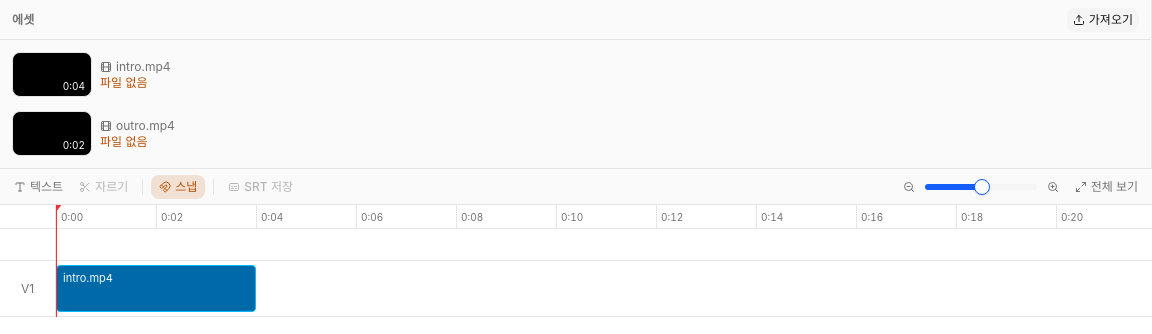
Test: Timeline › 클립 이동 › 거의 움직이지 않고 떼면 클립을 선택하고 탐색하지 않는다
Earlier steps of the test are not shown.
Press the mouse on the list item with aria-label "클립 intro.mp4" at x=156, y=288, box [56,265,256,312]
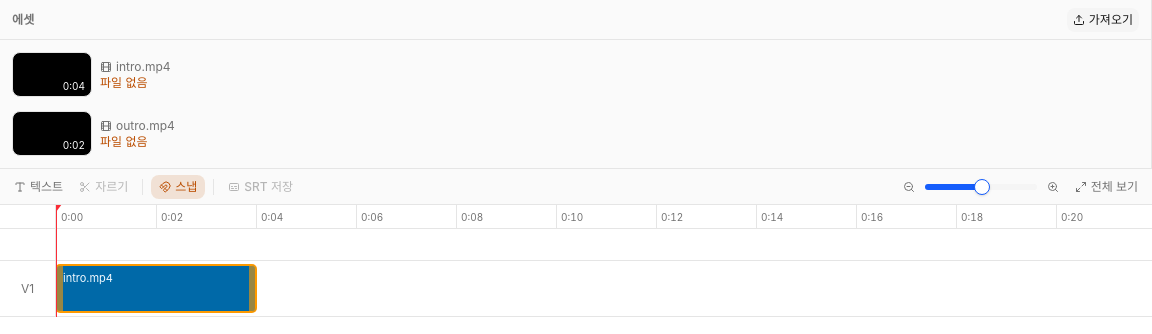
Expected: the list item with aria-label "클립 intro.mp4" has attribute data-selected="true", [56,265,256,312]
